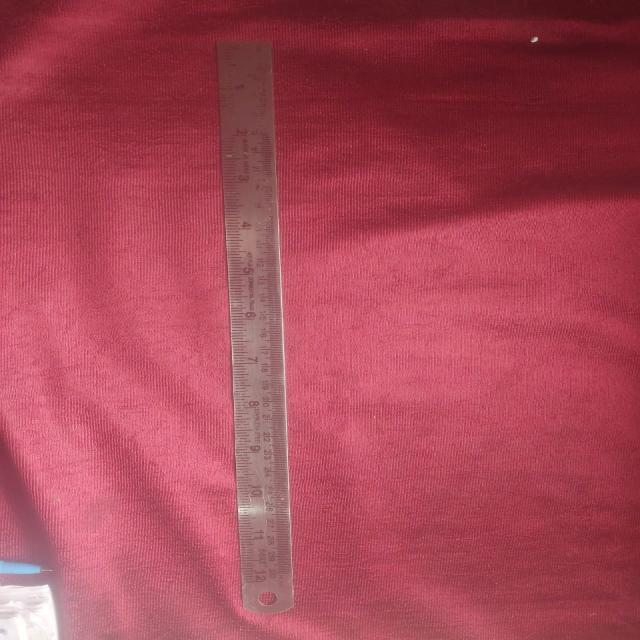scale: (219, 33, 293, 615)
